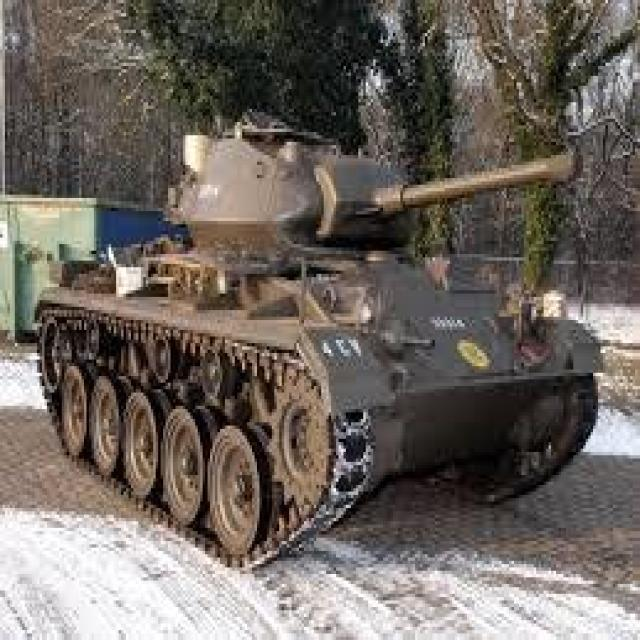Tanks: (21, 49, 572, 617)
